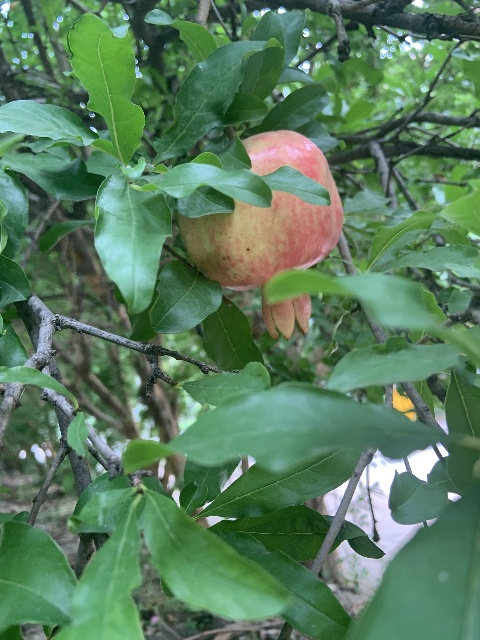ripe: (178, 129, 342, 342)
